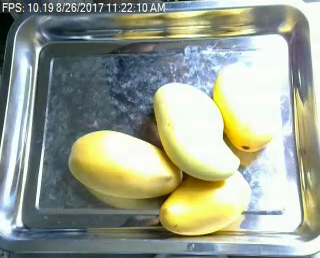Mango: (153, 83, 238, 180), (68, 129, 184, 199), (158, 166, 252, 234), (214, 61, 271, 152)
